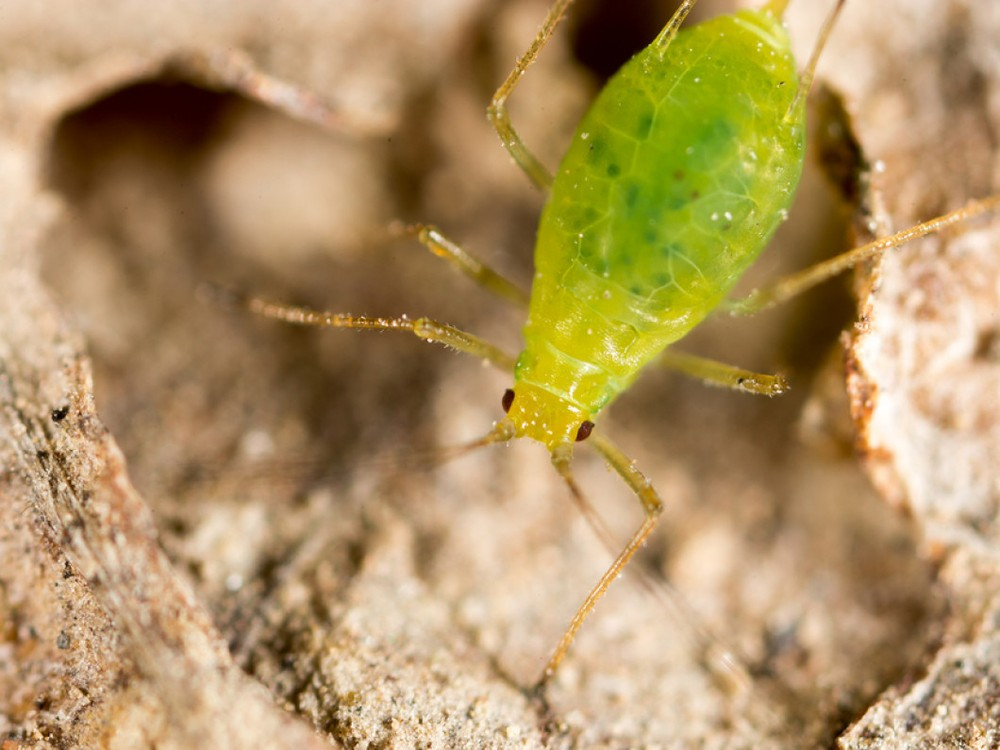Pulgon: (292, 4, 988, 681)
